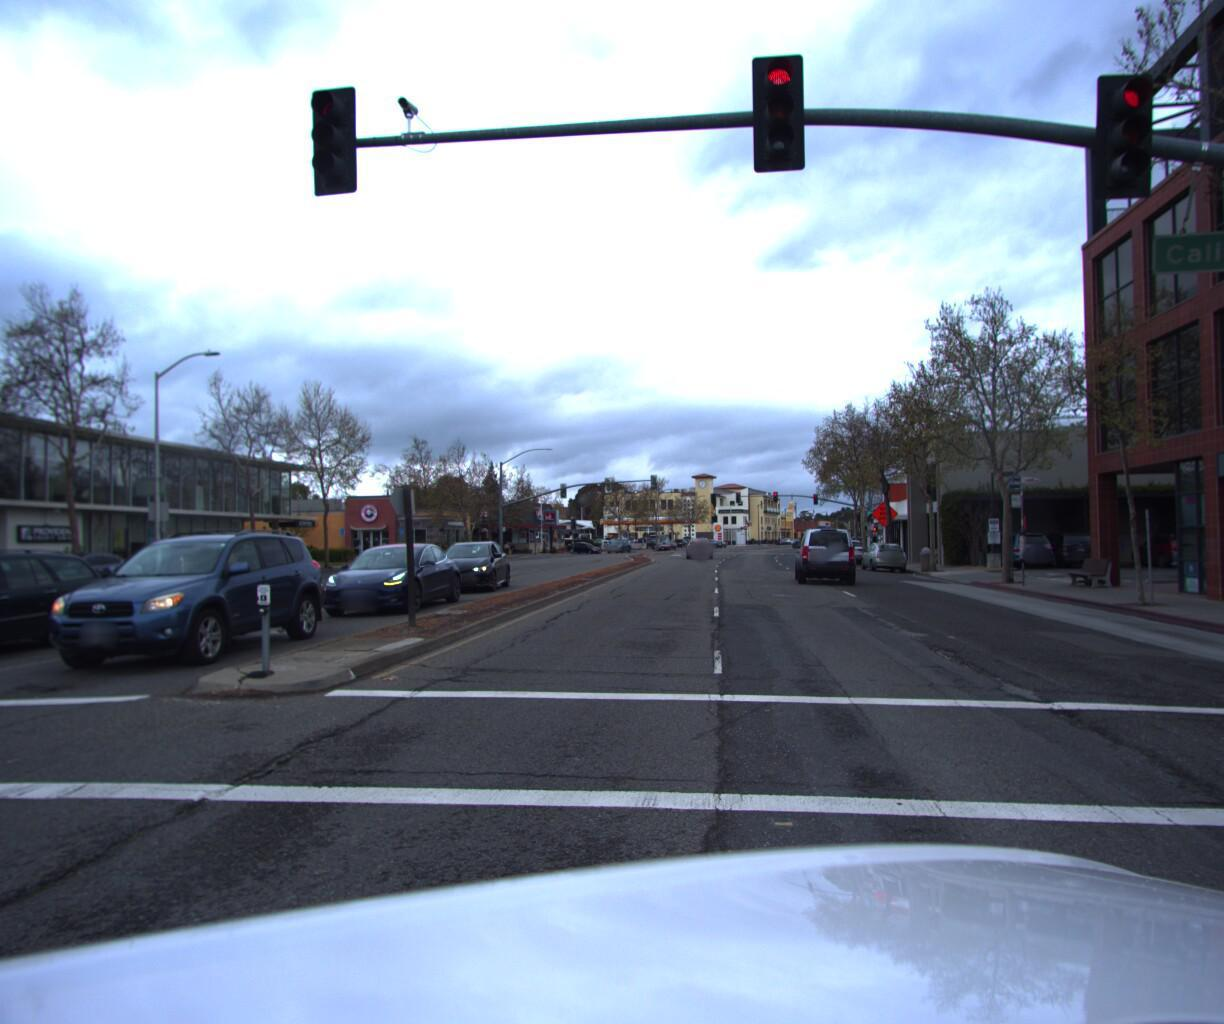car: (16, 523, 346, 692), (0, 549, 117, 685), (306, 546, 470, 624), (426, 551, 516, 615), (793, 529, 855, 592), (969, 538, 1049, 580), (1017, 538, 1093, 574), (852, 551, 905, 585), (827, 549, 860, 576), (684, 549, 714, 573)
